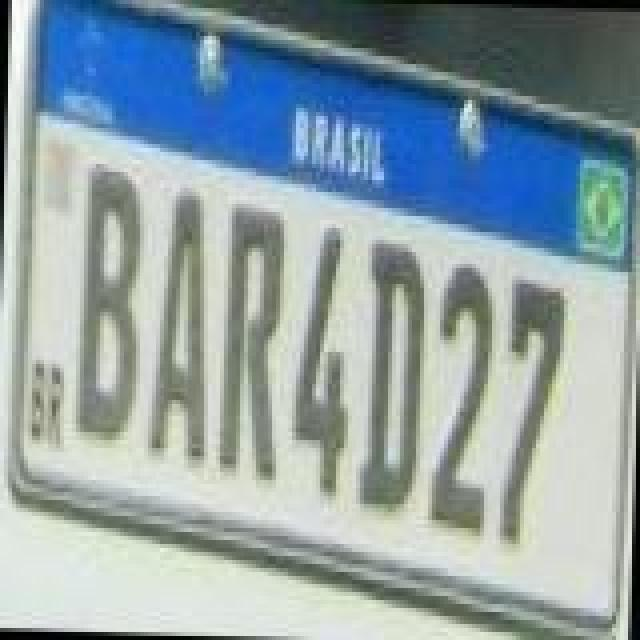2: (428, 258, 500, 534)
4: (286, 222, 354, 498)
7: (496, 272, 568, 544)
A: (150, 186, 218, 462)
B: (76, 160, 148, 448)
D: (354, 238, 430, 514)
R: (216, 194, 288, 486)
